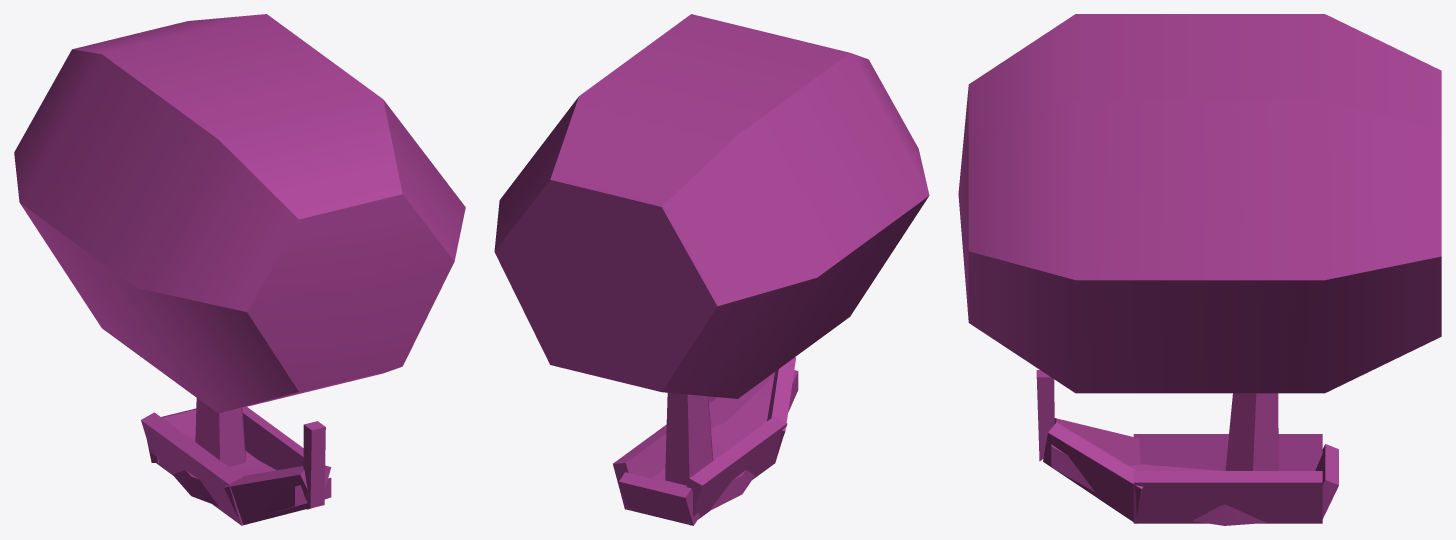
Rendered from SM_Veh_War_Balloon_01_Collision.fbx.
3 views of the same model, side by side, from view 1: azimuth 30°, elevation 25°; view 2: azimuth 150°, elevation 25°; view 3: azimuth 270°, elevation 25° (orthographic). The views are drawn at different scales.
Parts seen in each view (by area): view 1: SM_Veh_War_Balloon_01_Collision; view 2: SM_Veh_War_Balloon_01_Collision; view 3: SM_Veh_War_Balloon_01_Collision.
Boxes of the visible parts, x1,y1,x2,y2 form: SM_Veh_War_Balloon_01_Collision: (14,14,465,525); SM_Veh_War_Balloon_01_Collision: (494,14,929,525); SM_Veh_War_Balloon_01_Collision: (958,14,1441,525).
Bounding box in the file's own units: 562 × 683 × 666.
